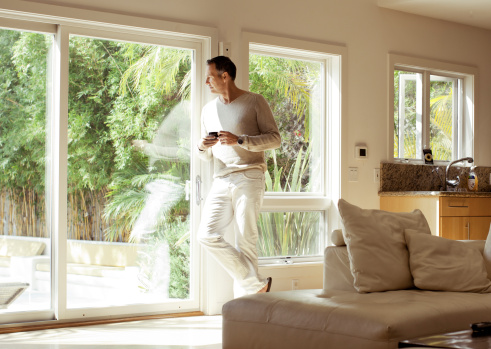em pe: (191, 34, 265, 308)
